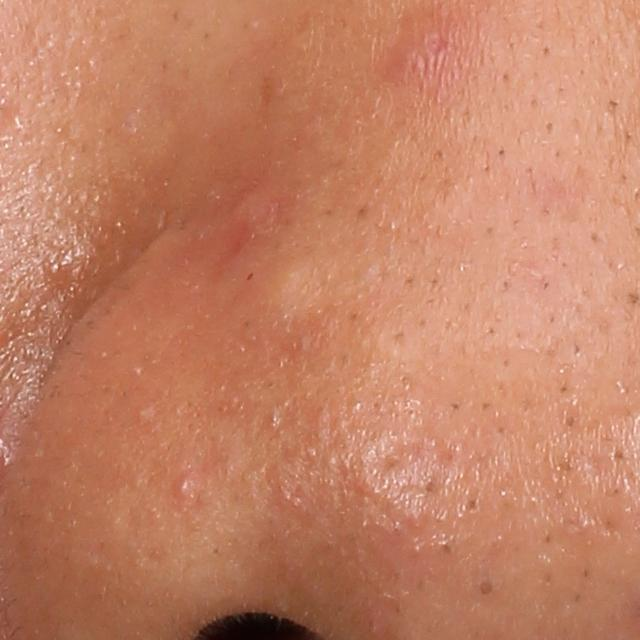comedo: (478, 579, 497, 601)
hypertrophic_scar: (123, 182, 285, 292), (242, 243, 340, 332)
